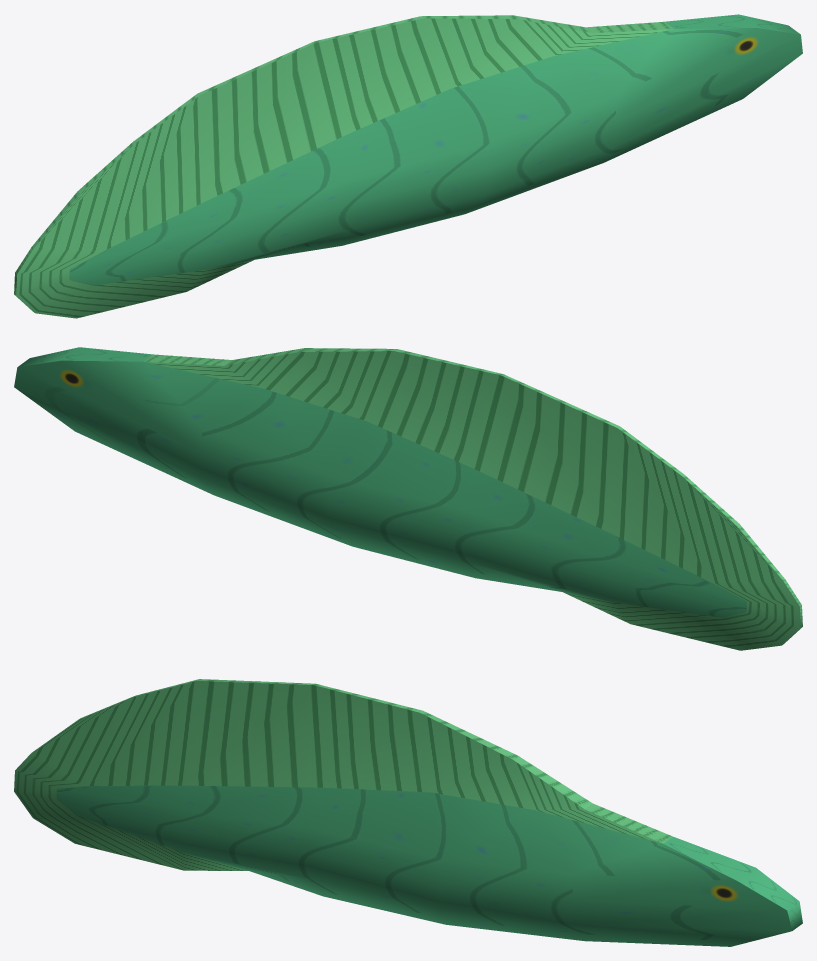
The model's file is SmallFauna.FBX.
3 views of the same model, one above another, from view 1: azimuth 30°, elevation 25°; view 2: azimuth 150°, elevation 25°; view 3: azimuth 330°, elevation 25° (orthographic).
Visible parts, largest first — view 1: Box001; view 2: Box001; view 3: Box001.
Boxes of the visible parts, x1,y1,x2,y2 form: Box001: (14,14,802,318); Box001: (14,347,802,650); Box001: (14,679,802,946).
Size of the model in its own units: 538 by 143 by 56.43.
3 materials, 3 textured.
